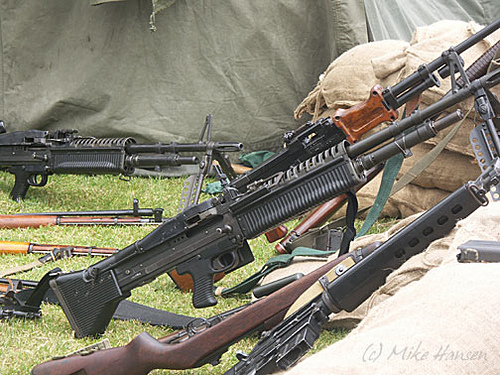rifle: (52, 62, 487, 324)
